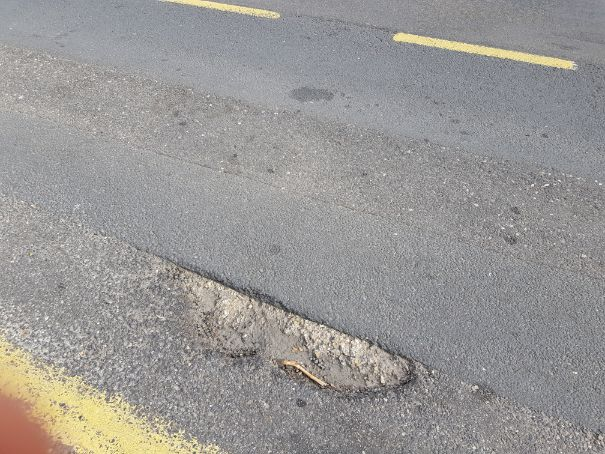pothole: (135, 247, 422, 396)
